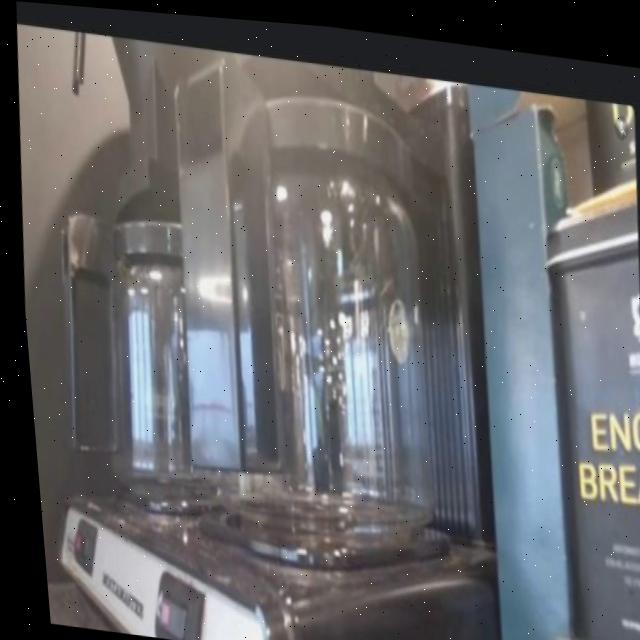nocoffee: (149, 81, 478, 582), (55, 167, 290, 543)
